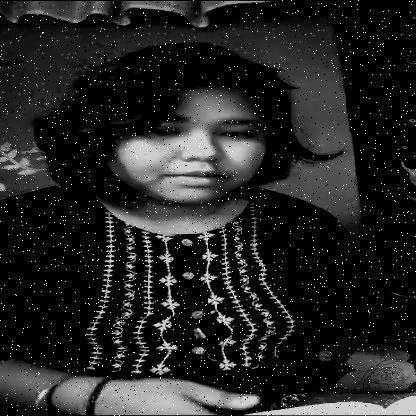Normal: (87, 63, 291, 206)
